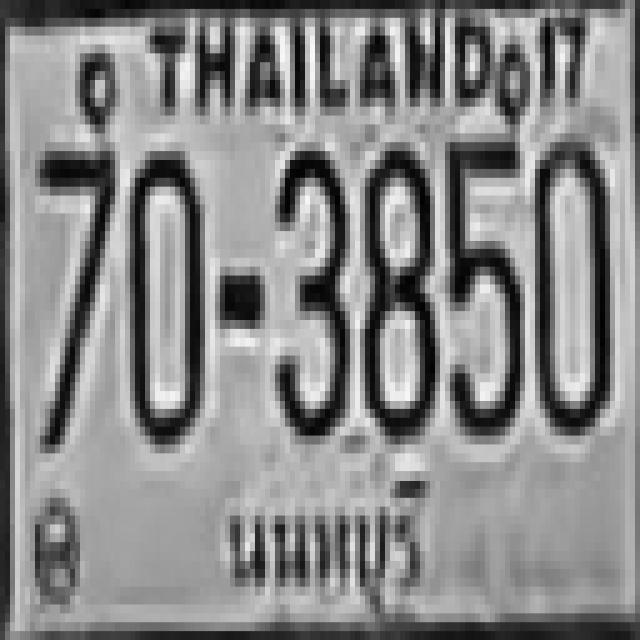0: (125, 142, 200, 436), (530, 133, 605, 427)
3: (270, 142, 345, 436)
5: (445, 134, 520, 436)
7: (35, 143, 110, 444)
8: (360, 134, 435, 436)
Nonthaburi: (215, 463, 426, 623)
